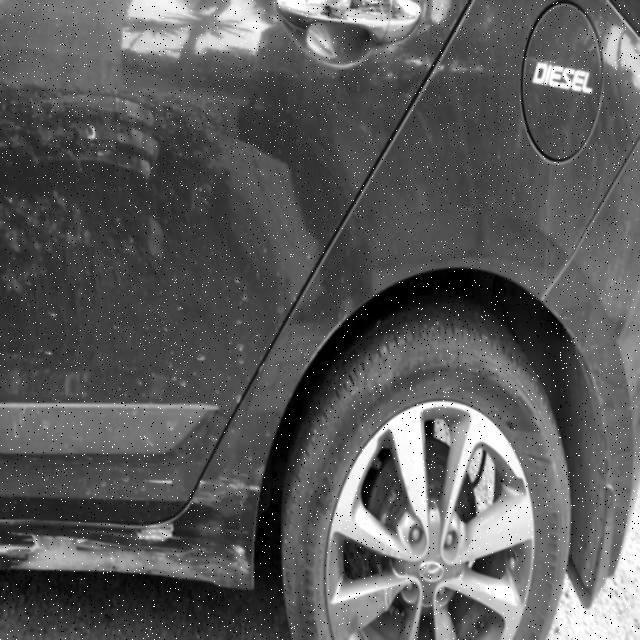Runningboard-Damage: (2, 507, 283, 601)
